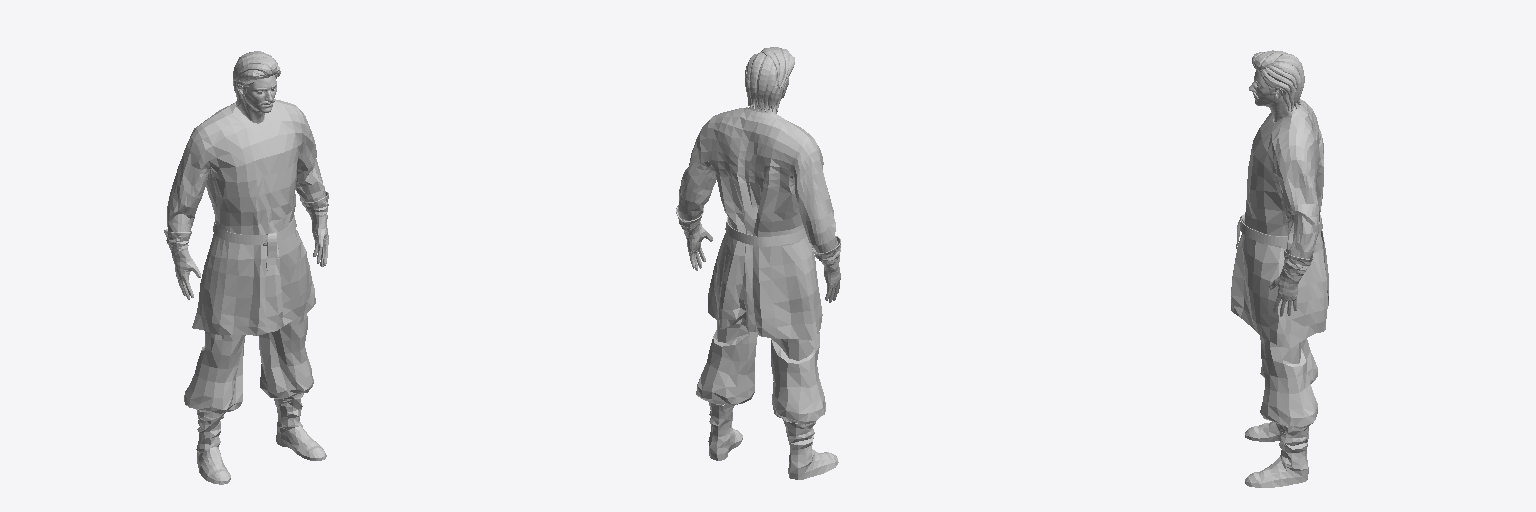
Rendered from manav.obj.
3 renders of one model, left to right at view 1: azimuth 30°, elevation 25°; view 2: azimuth 150°, elevation 25°; view 3: azimuth 270°, elevation 25°, orthographic.
Parts seen in each view (by area): view 1: cloth_low, pants_low, boots_low, gloves_low, manavhairlow, manav_low, belt_low; view 2: cloth_low, pants_low, boots_low, manavhairlow, gloves_low, belt_low; view 3: cloth_low, pants_low, boots_low, manavhairlow, gloves_low, manav_low, belt_low.
Part boxes in pixels (x1,y1,x2,y2): cloth_low: (167,99,325,335); pants_low: (184,313,313,413); boots_low: (196,393,326,484); gloves_low: (164,192,328,299); manavhairlow: (233,51,280,105); manav_low: (236,75,276,123); belt_low: (213,215,296,271); cloth_low: (678,107,837,340); pants_low: (696,321,825,424); boots_low: (708,401,838,479); manavhairlow: (745,47,794,111); gloves_low: (676,206,840,302); belt_low: (725,217,806,246); cloth_low: (1231,99,1328,348); pants_low: (1260,336,1317,428); boots_low: (1245,422,1308,487); manavhairlow: (1252,50,1304,111); gloves_low: (1269,250,1314,316); manav_low: (1249,70,1299,121); belt_low: (1236,214,1322,248).
Bounding box in the file's own units: 7.11 × 17.19 × 3.78.